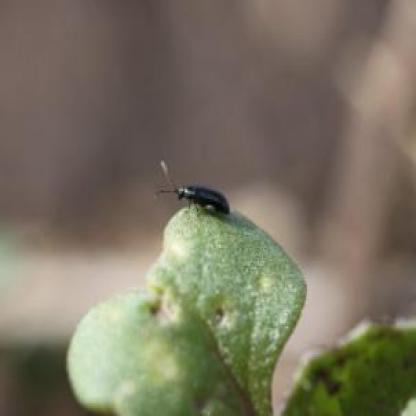beetle: (153, 156, 238, 222)
